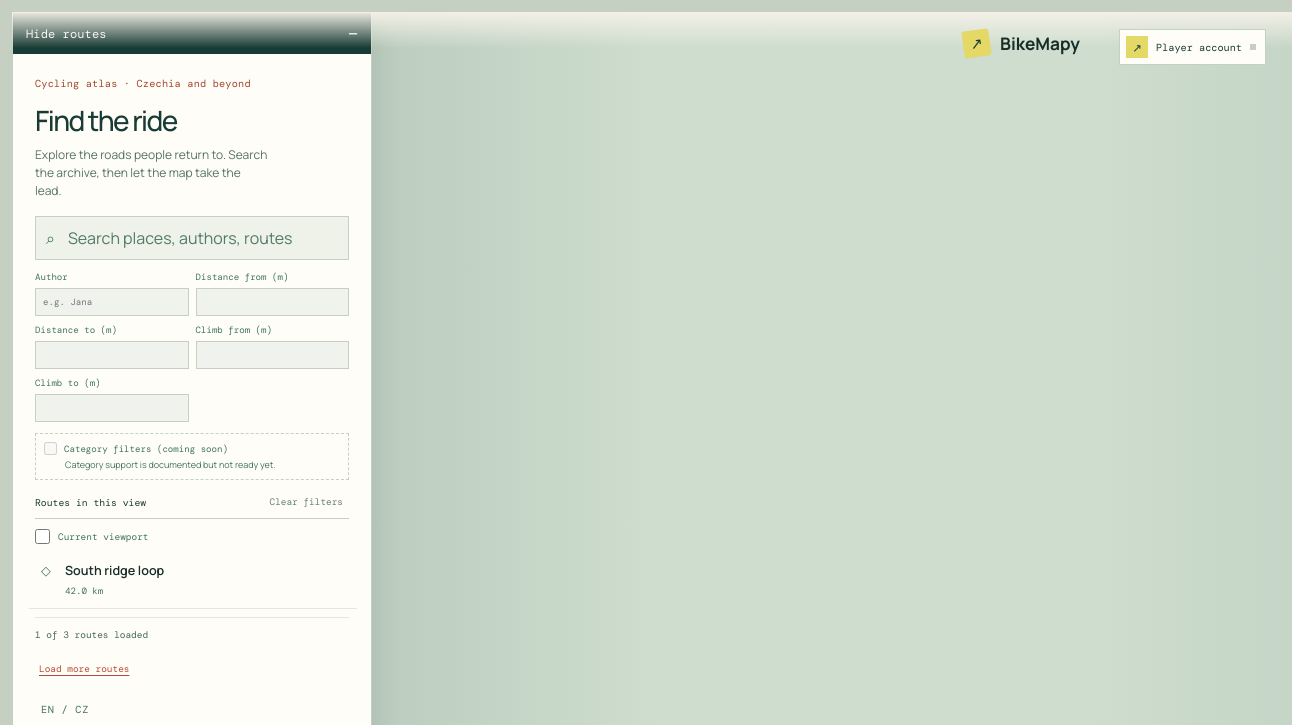
Test case: BikeMapy route discovery › normalizes a lower later-page count without claiming completion
Click the button "Load more routes".
click(84, 669)  # box [35,649,134,689]
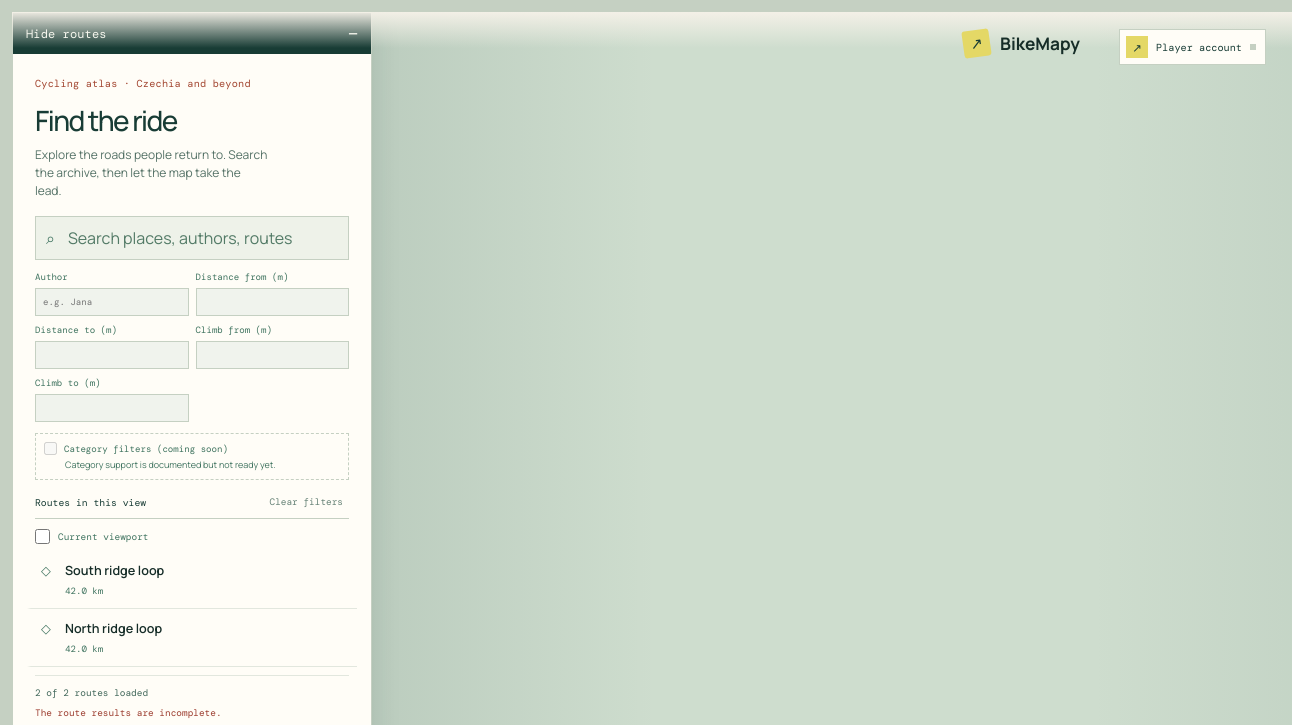
Now the text "The route results are incomplete." is shown, box [35,707,222,719]
Now the text "2 of 2 routes loaded" is shown, box [35,687,148,699]
